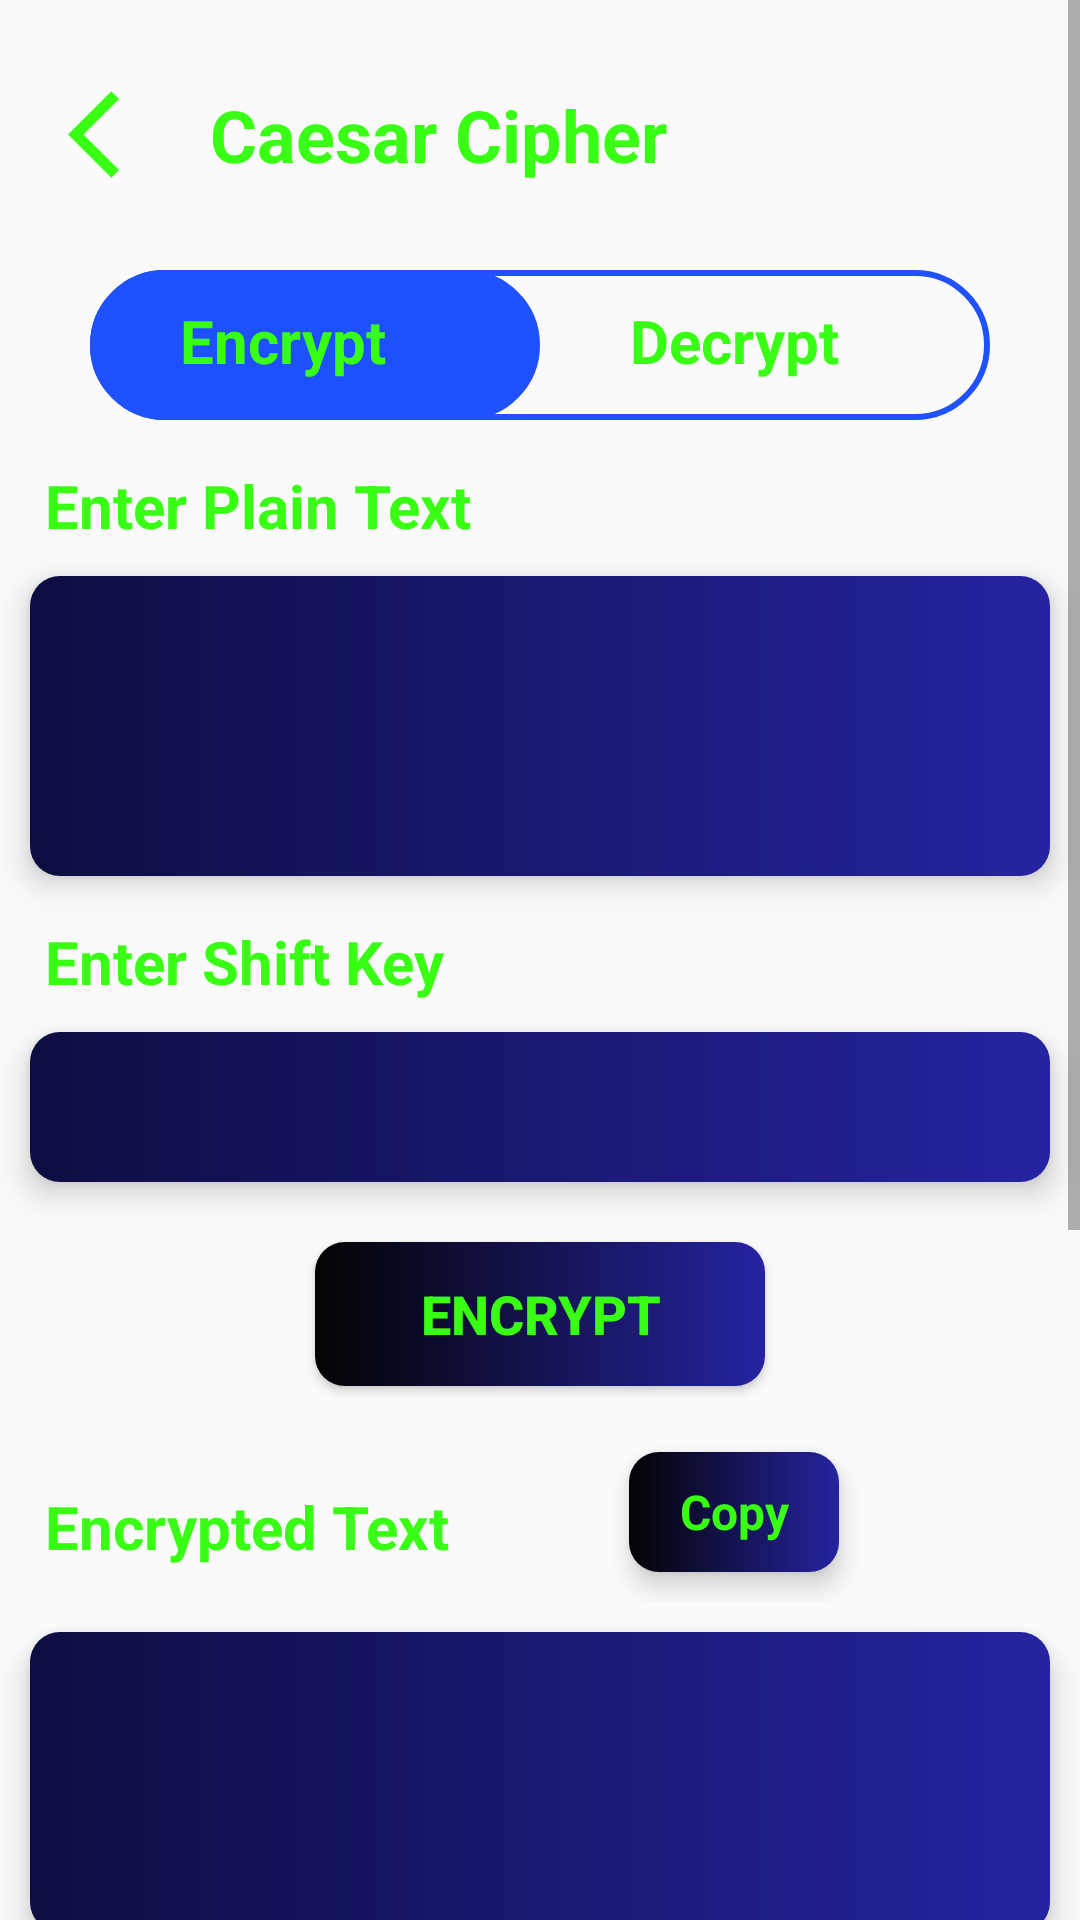

Screen size 1080w x 1920h. Icon name, then its box in pixels as (x1, y1, x2, y2):
back: (68, 91, 119, 178)
